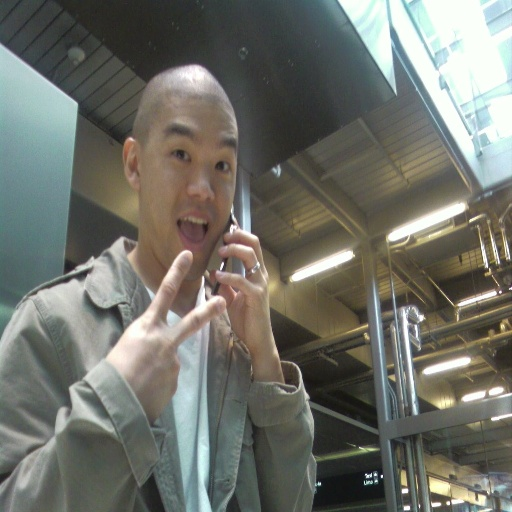hand: (103, 246, 226, 430), (209, 227, 275, 389)
